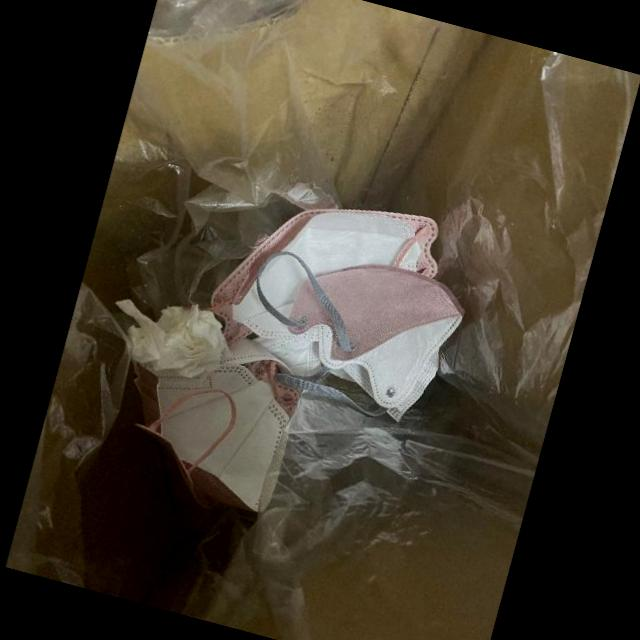giay: (115, 299, 224, 379)
khau_trang: (255, 251, 464, 422), (209, 209, 438, 345), (131, 360, 299, 513), (220, 333, 320, 415)
